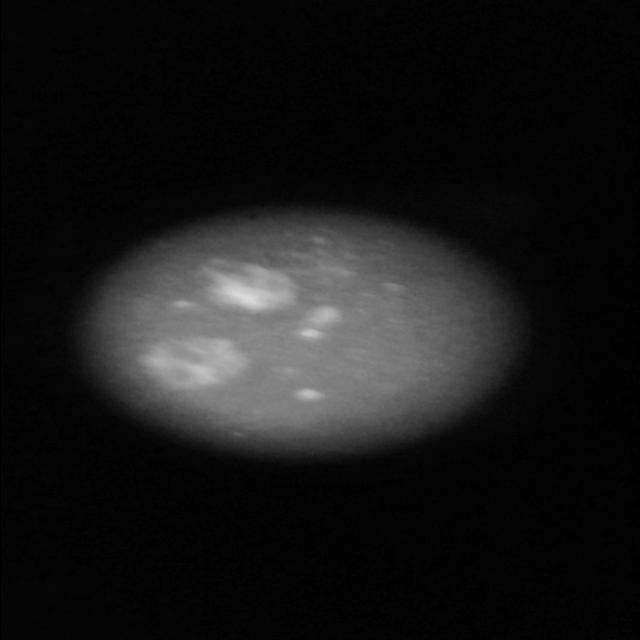alexandrium: (180, 245, 320, 317), (132, 330, 270, 400)
